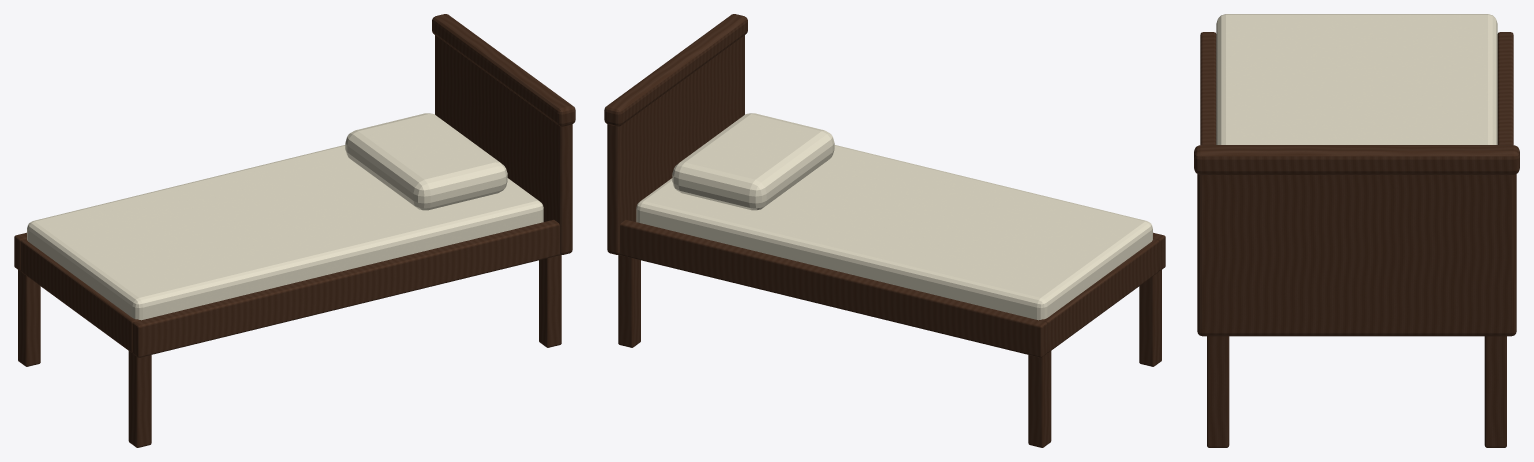
File: FUR_Bed.fbx
3 views of the same model, side by side, from view 1: azimuth 30°, elevation 25°; view 2: azimuth 150°, elevation 25°; view 3: azimuth 270°, elevation 25° (orthographic). The views are drawn at different scales.
Parts seen in each view (by area): view 1: Bed_Mattress, Bed_Frame, Bed_Pillow; view 2: Bed_Mattress, Bed_Frame, Bed_Pillow; view 3: Bed_Frame, Bed_Mattress.
Boxes of the visible parts, x1,y1,x2,y2 form: Bed_Mattress: [27, 145, 543, 320]; Bed_Frame: [14, 14, 575, 447]; Bed_Pillow: [345, 113, 507, 210]; Bed_Mattress: [636, 145, 1152, 320]; Bed_Frame: [604, 14, 1165, 447]; Bed_Pillow: [672, 113, 834, 210]; Bed_Frame: [1194, 32, 1519, 447]; Bed_Mattress: [1216, 14, 1497, 144].
Bounding box in the file's own units: 198 × 104 × 102.
